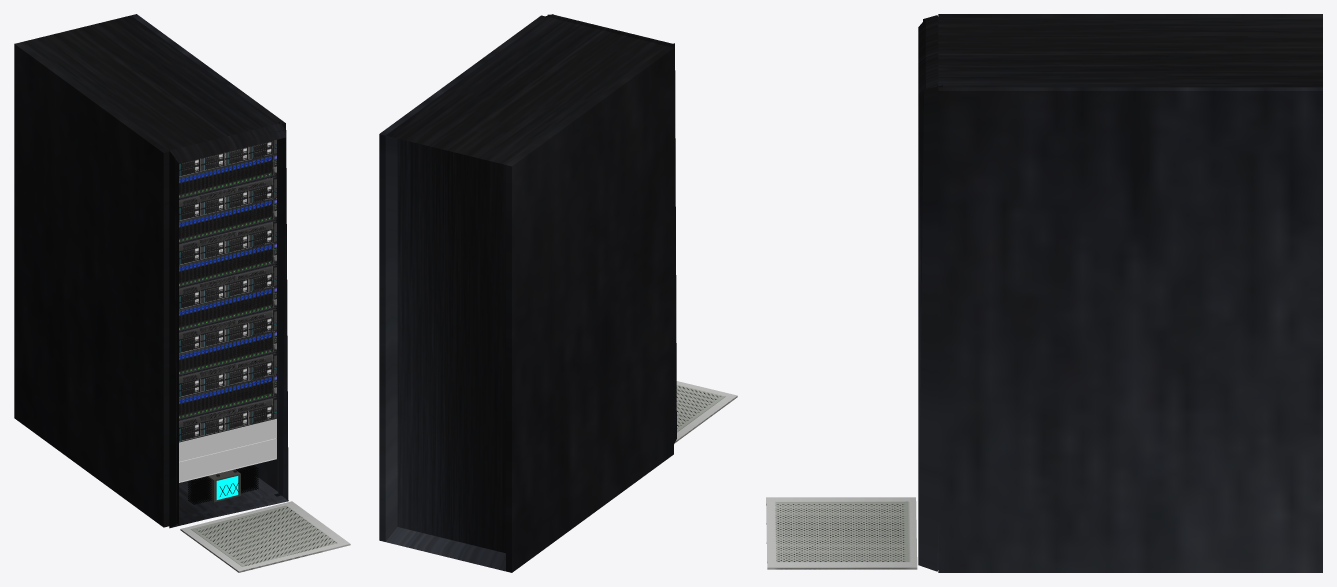
File: ServerRack.fbx
The picture shows the model from 3 angles, left to right: view 1: azimuth 30°, elevation 25°; view 2: azimuth 150°, elevation 25°; view 3: azimuth 270°, elevation 25°; orthographic projection. The views are drawn at different scales.
Parts seen in each view (by area): view 1: Server_Rack.004, Server_Rack.003, Server_Rack.002, Server_Rack.001, Server_Rack.005, Server_Rack.007, Server_Rack.008, Server_Rack.009; view 2: Server_Rack.004, Server_Rack.001; view 3: Server_Rack.004, Server_Rack.001.
Boxes of the visible parts, x1,y1,x2,y2 form: Server_Rack.004: (14, 14, 288, 528); Server_Rack.003: (179, 140, 276, 442); Server_Rack.002: (179, 154, 276, 420); Server_Rack.001: (180, 501, 350, 572); Server_Rack.005: (179, 418, 276, 482); Server_Rack.007: (188, 465, 258, 504); Server_Rack.008: (204, 470, 240, 502); Server_Rack.009: (216, 476, 238, 499); Server_Rack.004: (379, 14, 676, 572); Server_Rack.001: (675, 381, 737, 442); Server_Rack.004: (918, 14, 1322, 572); Server_Rack.001: (766, 497, 917, 569).
Size of the model in its own units: 60.96 by 180 by 187.
